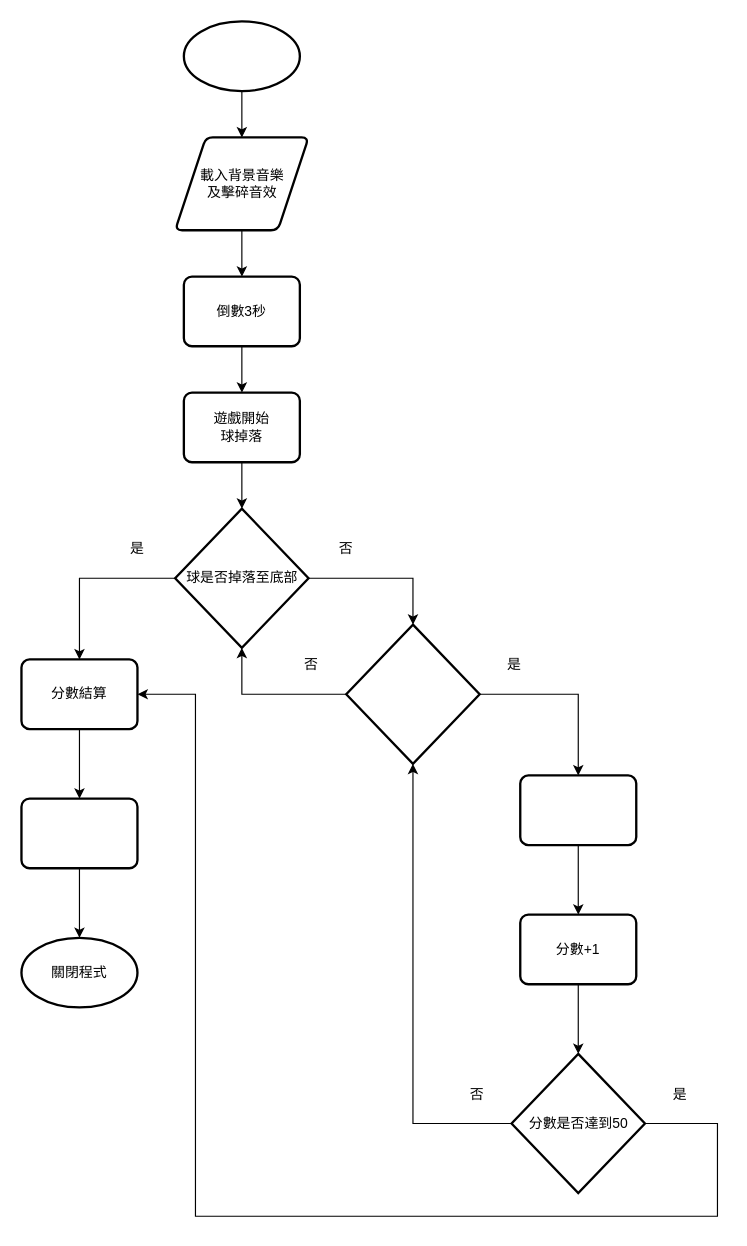
This 747x1246 diagram has some shape labels left out. Here are the shapes that lost their labels. From the top down, the centre of each, then its label:
At (241,56): "啟動程式".
At (412,693): "球是否擊碎磚塊".
At (578,810): "觸發擊碎音效".
At (79,833): "遊戲結束 印出分數".
